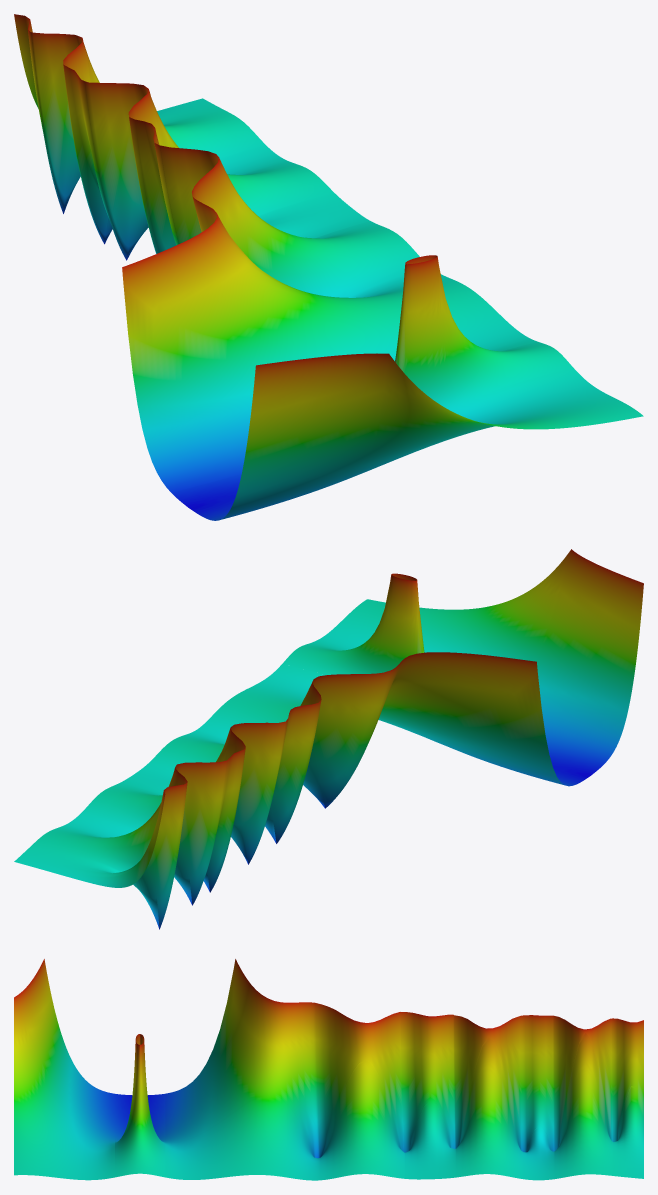
File: matematicas.glb
The picture shows the model from 3 angles, top to bottom: view 1: azimuth 30°, elevation 25°; view 2: azimuth 150°, elevation 25°; view 3: azimuth 270°, elevation 25°; orthographic projection. The views are drawn at different scales.
Parts seen in each view (by area): view 1: Object_2; view 2: Object_2; view 3: Object_2.
Part boxes in pixels (bbox=[...]): Object_2: bbox=[14, 14, 643, 520]; Object_2: bbox=[14, 549, 643, 929]; Object_2: bbox=[14, 959, 643, 1180].
Size of the model in its own units: 4.8 by 2.41 by 10.
